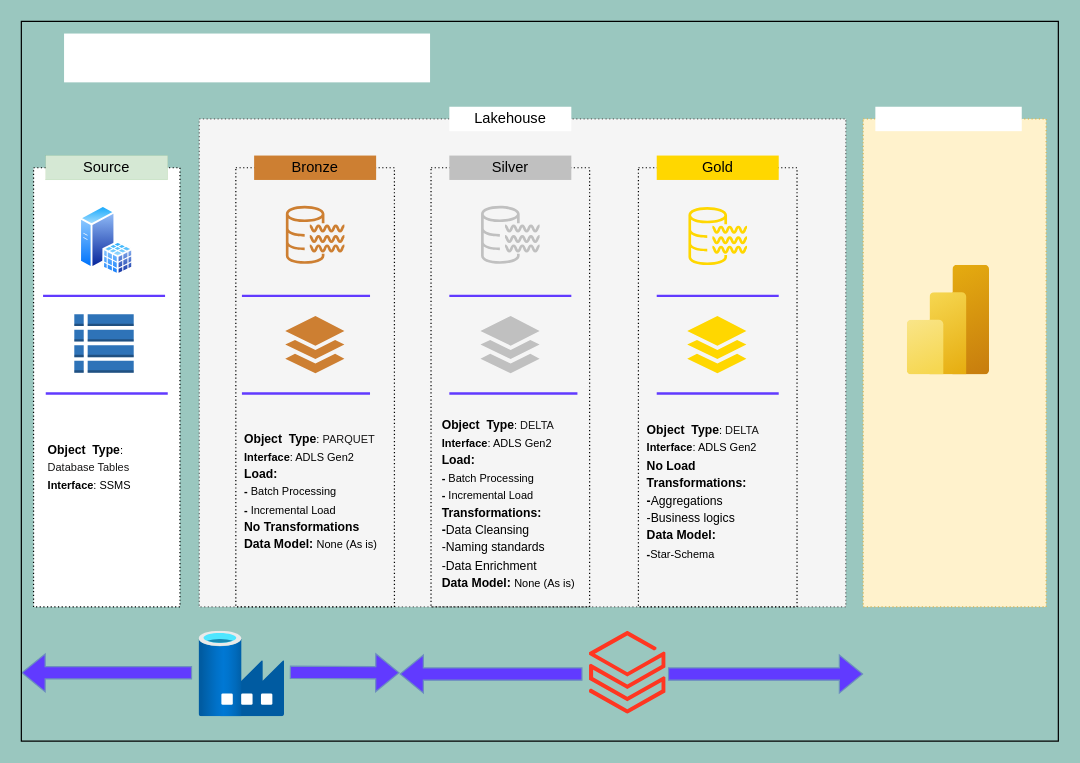
Image size: 1080x763. Some labels were removed from this diagram. The box of each missing label's shape, as (x1, y1, x2, y2) in pixels:
Consume: (875, 106, 1021, 131)
High Level Data Architecture: (63, 33, 429, 82)
